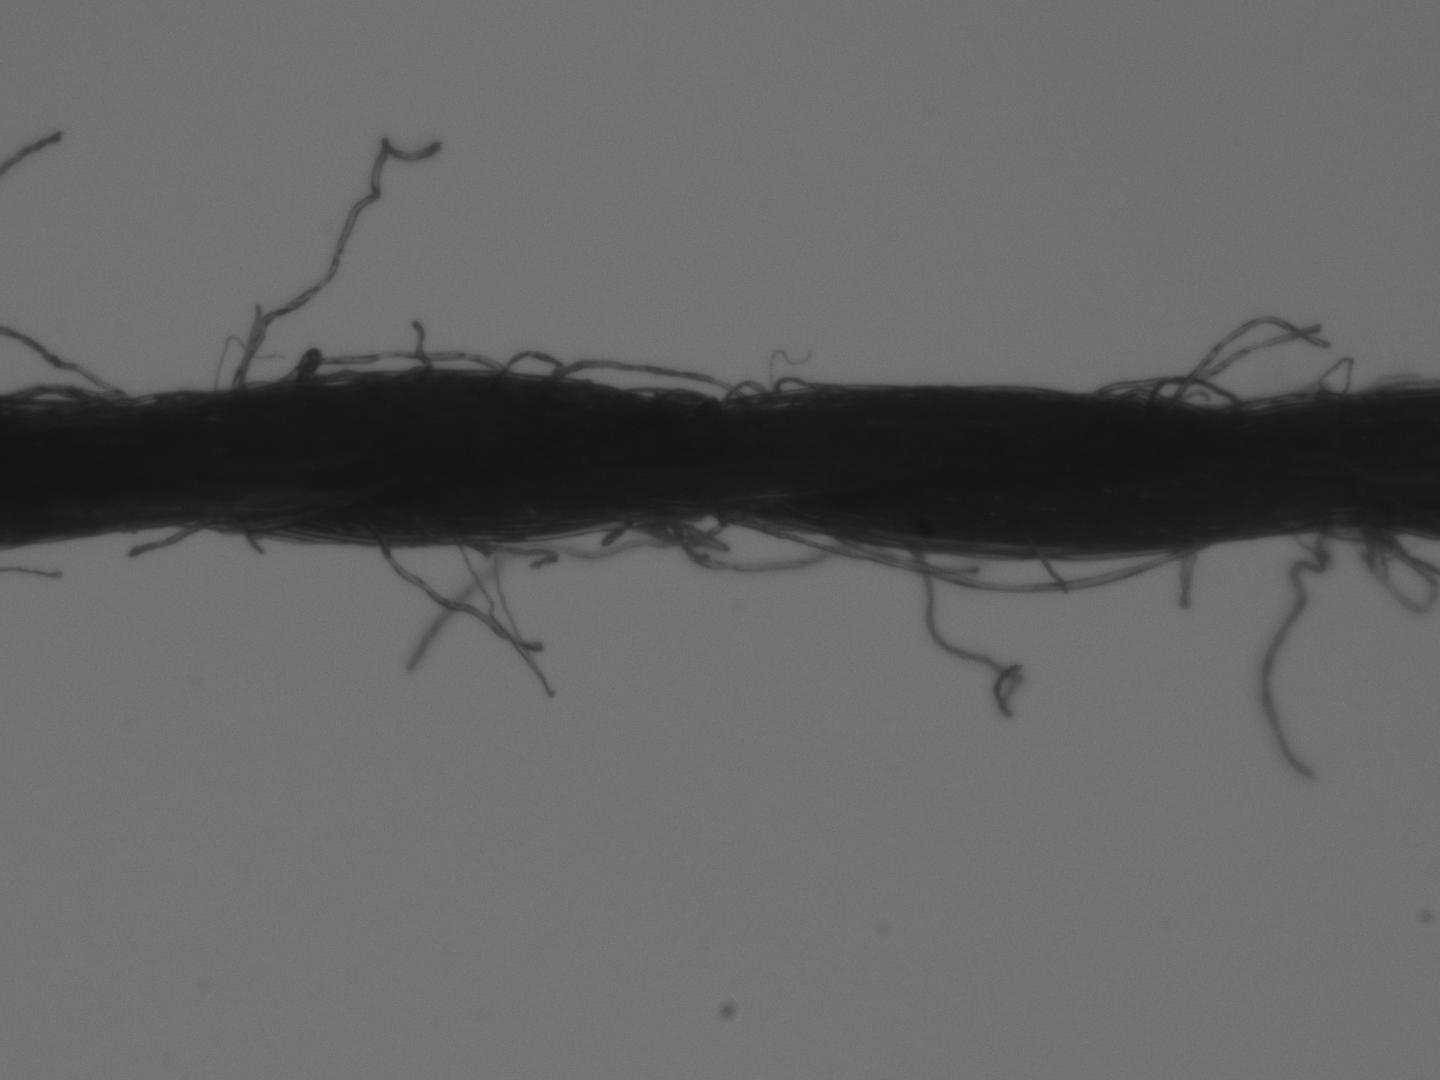loop_fiber: (837, 534, 1203, 597), (283, 347, 498, 373), (1143, 372, 1236, 407), (636, 513, 726, 546), (497, 346, 559, 378), (1307, 356, 1353, 397), (9, 381, 94, 402), (768, 372, 818, 395), (726, 378, 765, 405)
protruding_fiber: (231, 137, 440, 390), (126, 524, 204, 559)
